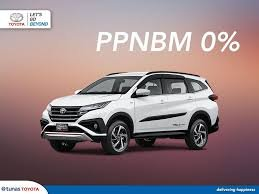mobil: (39, 67, 222, 150)
